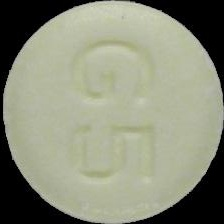50090-1594: (0, 0, 224, 224)
